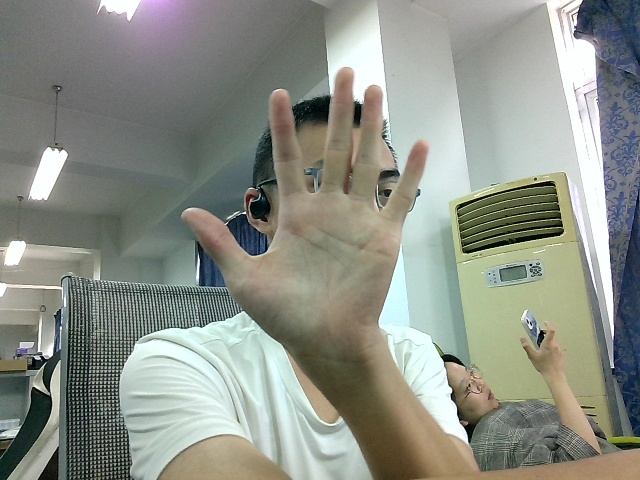paper: (175, 60, 432, 391)
